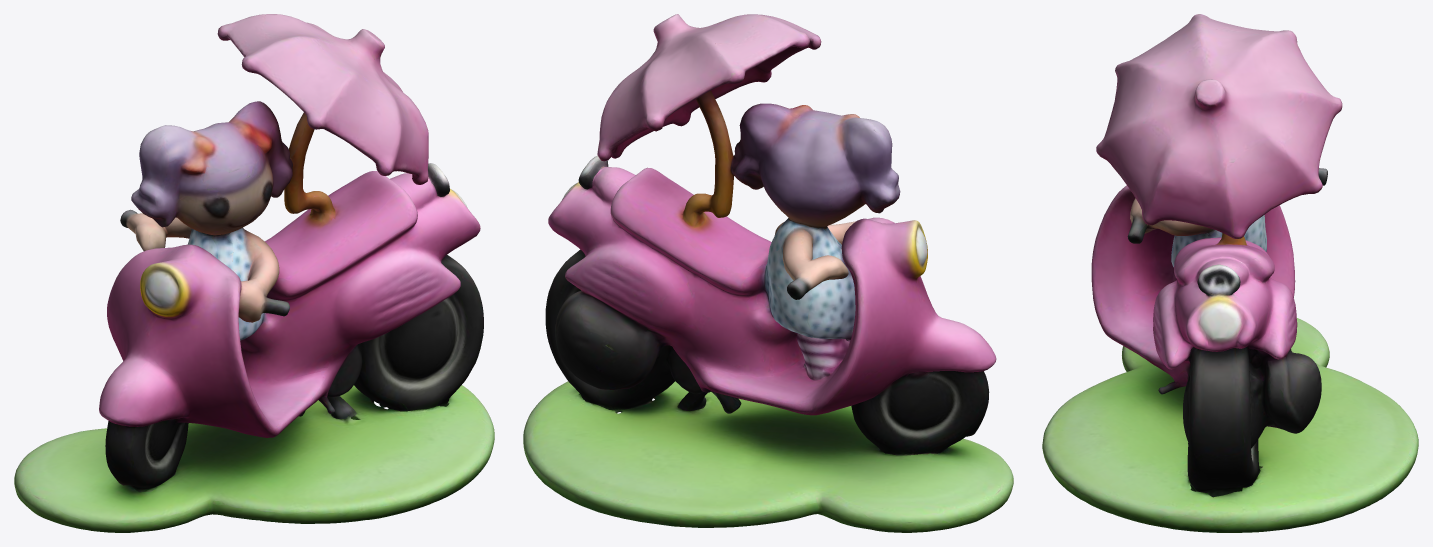
The model's file is girl.glb.
3 renders of one model, left to right at view 1: azimuth 30°, elevation 25°; view 2: azimuth 150°, elevation 25°; view 3: azimuth 270°, elevation 25°, orthographic. The views are drawn at different scales.
Parts seen in each view (by area): view 1: geometry_0; view 2: geometry_0; view 3: geometry_0.
Part boxes in pixels (box(x1,y1,x2,y2)): geometry_0: box(14, 14, 494, 532); geometry_0: box(523, 14, 1013, 532); geometry_0: box(1042, 14, 1418, 532).
Size of the model in its own units: 1 by 0.9216 by 0.7544.
Materials: 1 (1 with a texture image).
